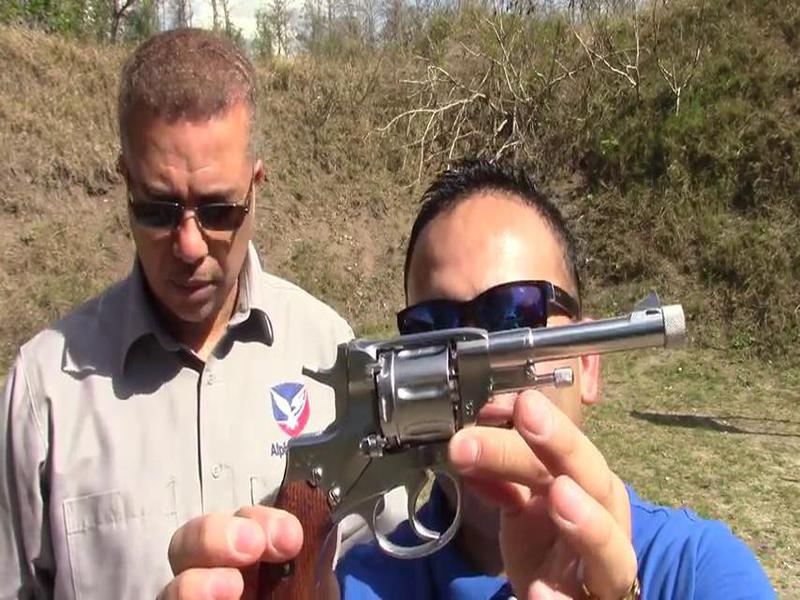Revolver: (242, 274, 701, 600)
